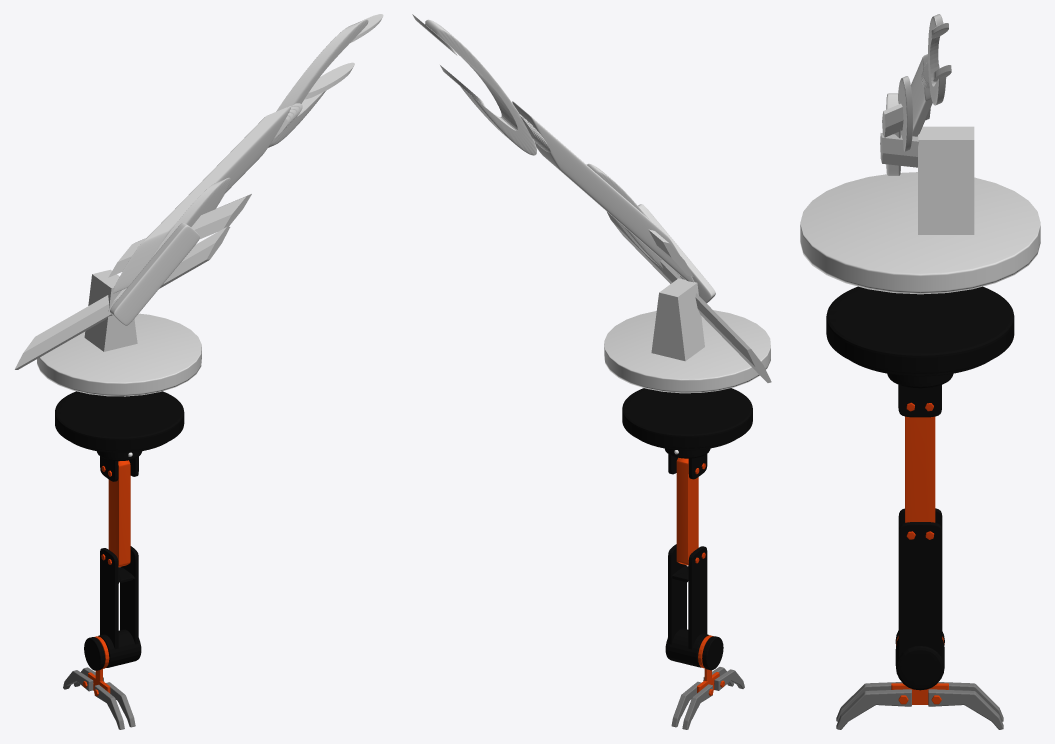
Rendered from robot_arm.fbx.
3 views of the same model, side by side, from view 1: azimuth 30°, elevation 25°; view 2: azimuth 150°, elevation 25°; view 3: azimuth 270°, elevation 25° (orthographic). The views are drawn at different scales.
Parts seen in each view (by area): view 1: Cylinder, Cylinder.001, Cylinder.002, Cylinder.003, Cylinder.005, Cube.002, Cube, Cube.001, Cube.003; view 2: Cylinder.001, Cylinder, Cylinder.002, Cylinder.003, Cube.001, Cube, Cylinder.005, Cube.006, Cube.002; view 3: Cylinder.001, Cylinder.002, Cylinder.003, Cube.001, Cylinder, Cube, Cube.006, Cube.003, Cylinder.005, Cylinder.004.
Boxes of the visible parts, x1,y1,x2,y2 form: Cylinder: [108, 14, 383, 293]; Cylinder.001: [37, 313, 201, 396]; Cylinder.002: [55, 391, 184, 481]; Cylinder.003: [84, 546, 141, 670]; Cylinder.005: [14, 226, 230, 369]; Cube.002: [110, 222, 199, 325]; Cube: [108, 460, 130, 567]; Cube.001: [84, 269, 137, 351]; Cube.003: [94, 682, 135, 729]; Cylinder.001: [604, 310, 770, 393]; Cylinder: [412, 14, 694, 282]; Cylinder.002: [622, 388, 752, 479]; Cylinder.003: [665, 544, 723, 670]; Cube.001: [651, 278, 704, 361]; Cube: [676, 457, 698, 565]; Cylinder.005: [607, 212, 771, 382]; Cube.006: [671, 681, 712, 729]; Cube.002: [638, 204, 715, 303]; Cylinder.001: [800, 172, 1040, 294]; Cylinder.002: [826, 286, 1014, 417]; Cylinder.003: [895, 508, 944, 690]; Cube.001: [918, 126, 974, 234]; Cylinder: [882, 14, 951, 151]; Cube: [905, 416, 935, 522]; Cube.006: [928, 682, 1003, 729]; Cube.003: [836, 682, 911, 729]; Cylinder.005: [880, 133, 918, 167]; Cylinder.004: [891, 635, 948, 704].
Size of the model in its own units: 643 by 1050 by 254.
